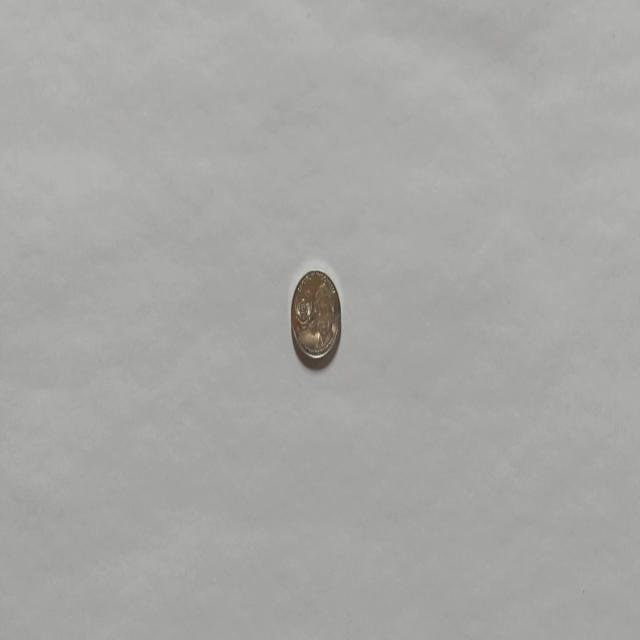dua ratus rupiah: (289, 268, 341, 362)
